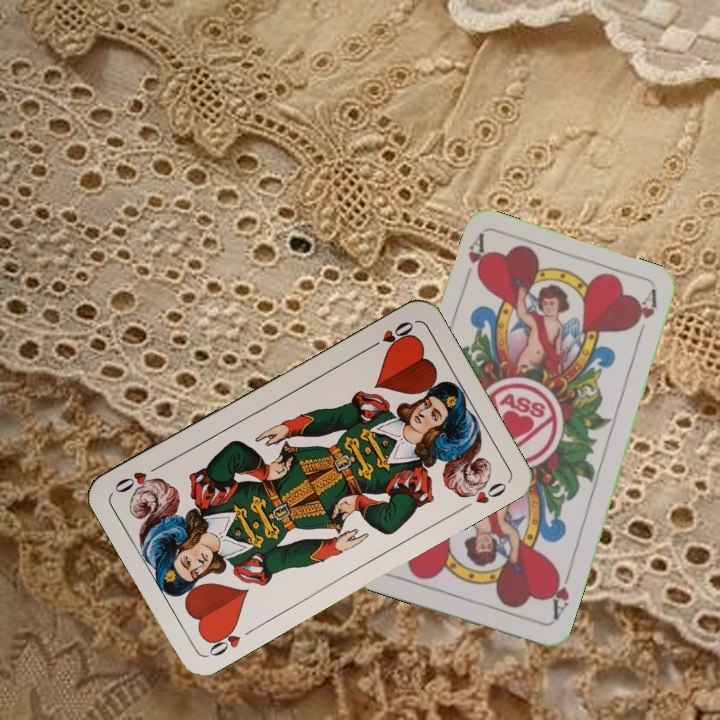HA: (459, 231, 492, 289), (544, 564, 573, 623)
HO: (363, 317, 416, 353), (202, 620, 243, 660)
